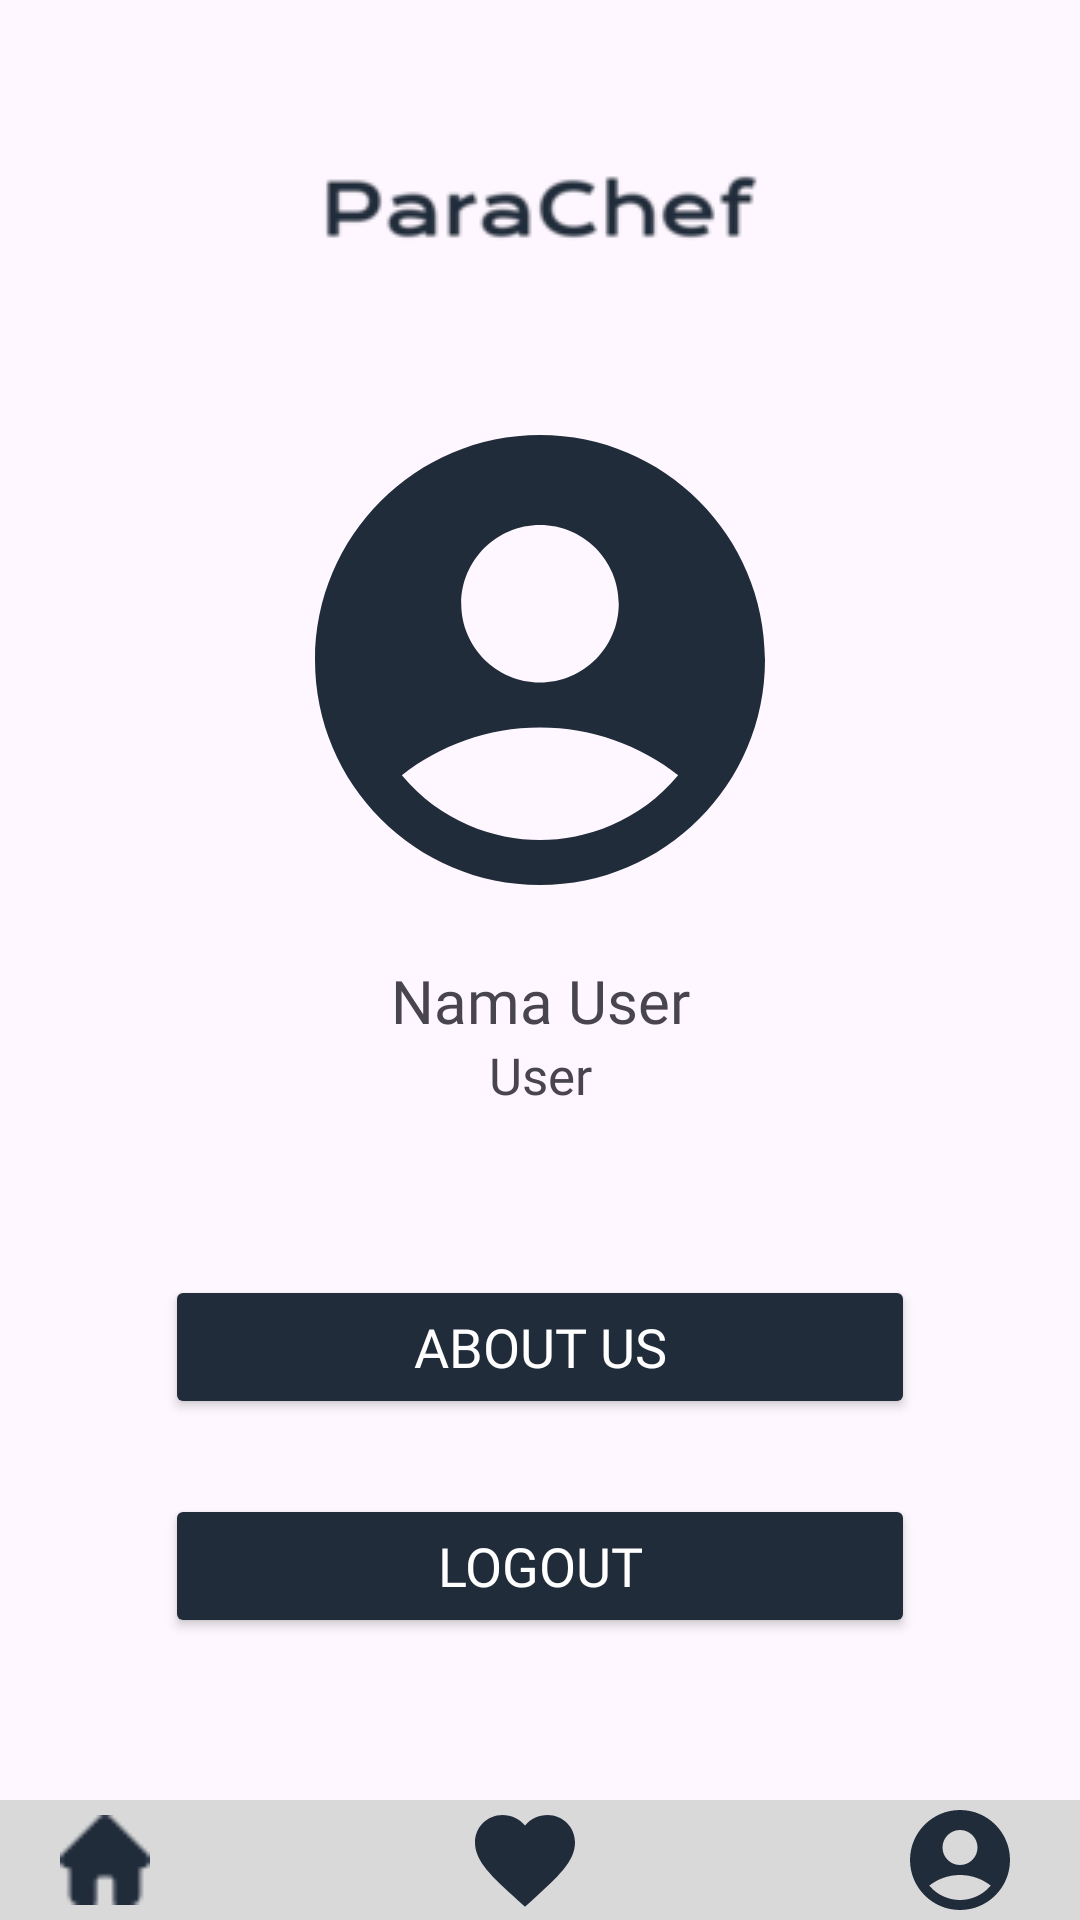

Screen size 1080 × 1920. Icon name, then its center in pixels as (x=x, y=y):
favadd: (x=525, y=1861)
navhome: (x=105, y=1860)
